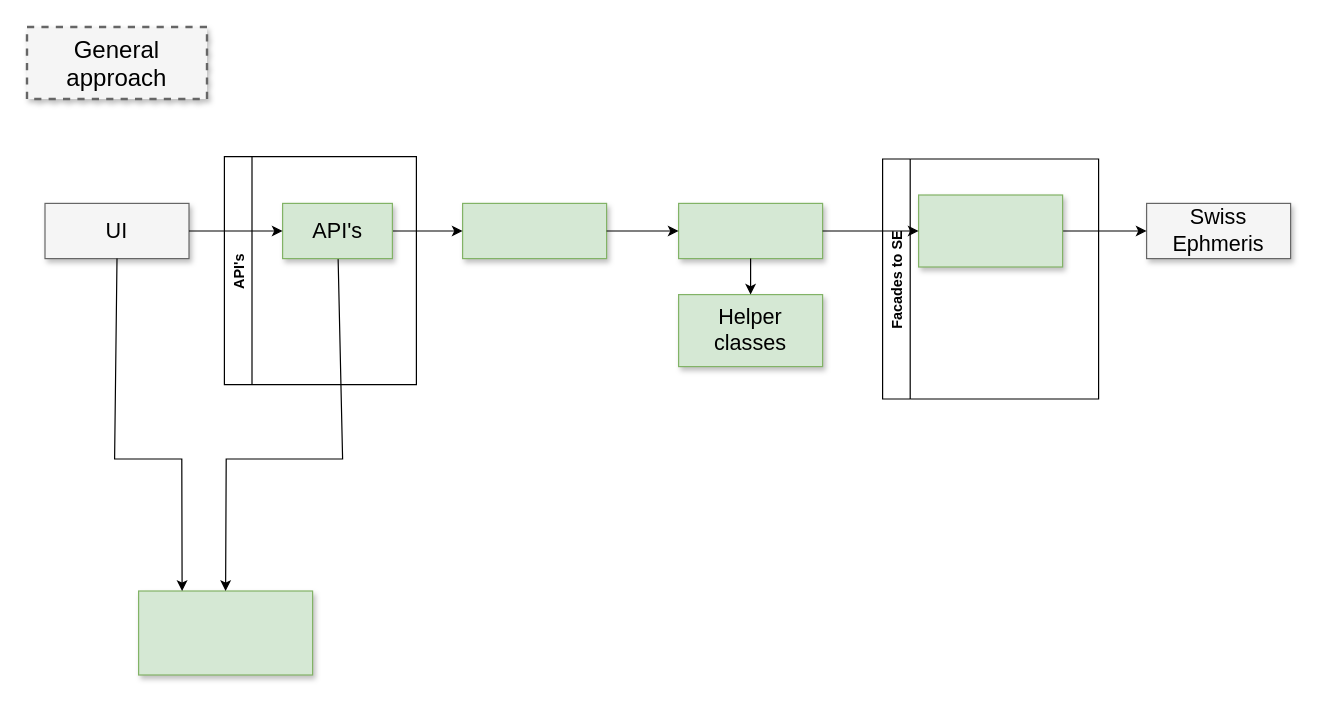
Some shapes in this 1319 by 704 pixel diagram are drawn without their labels. The centre of each missing label's shape, as x and y in pixels:
"Calculations" belongs at point 751,232.
"Facades" belongs at point 991,232.
"Handlers" belongs at point 535,232.
"Shared" belongs at point 226,634.
